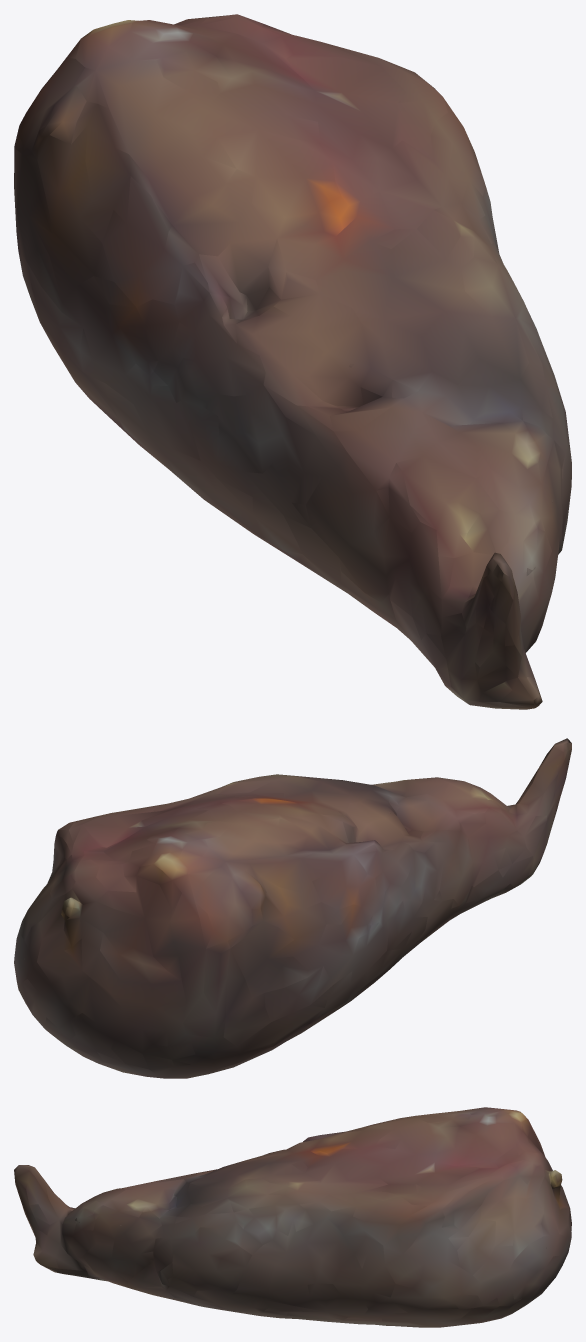
File: 0001_mask_002_roasted_sweet_potato.glb
3 renders of one model, top to bottom at view 1: azimuth 30°, elevation 25°; view 2: azimuth 150°, elevation 25°; view 3: azimuth 270°, elevation 25°, orthographic. The views are drawn at different scales.
Parts seen in each view (by area): view 1: mask_002_object; view 2: mask_002_object; view 3: mask_002_object.
Part boxes in pixels (<box>): mask_002_object: <box>14,14,571,709</box>; mask_002_object: <box>14,738,571,1078</box>; mask_002_object: <box>14,1107,571,1327</box>.
Size of the model in its own units: 0.2367 by 0.2184 by 0.5783.
